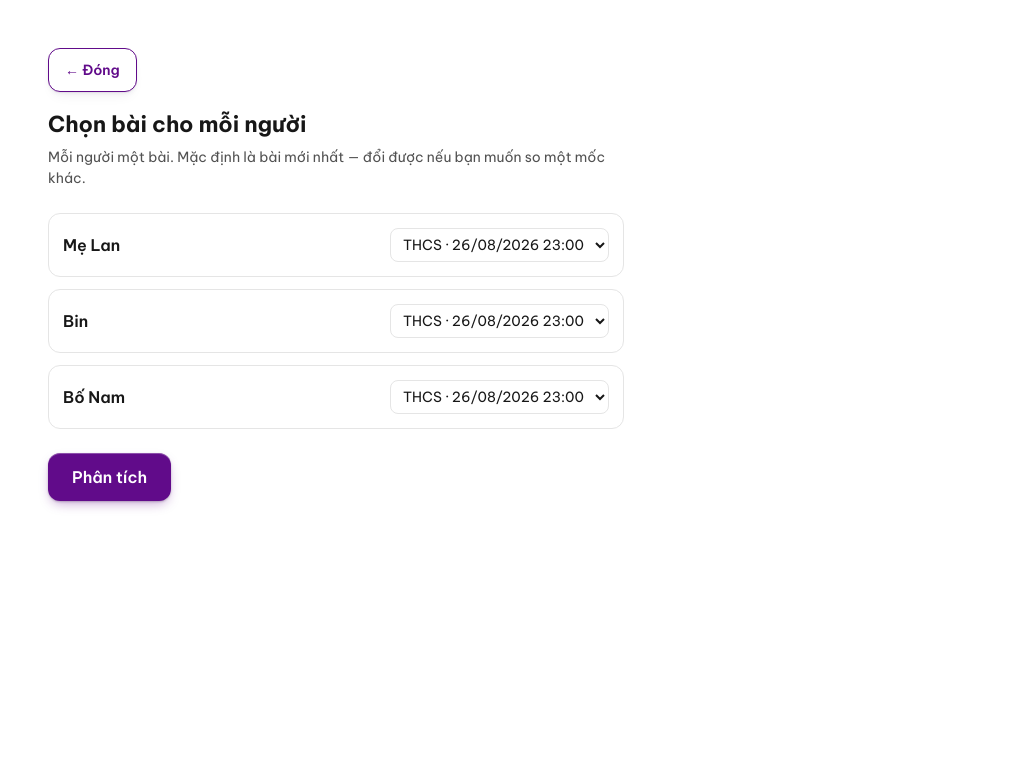
Scenario: 🔴🔴 IN TÁCH BẢN — mỗi người MỘT TỜ › có đúng một nút in cho mỗi người
This screenshot has width=1024, height=768.
Click the button "Phân tích" at (110, 477), box [48,453,171,501]
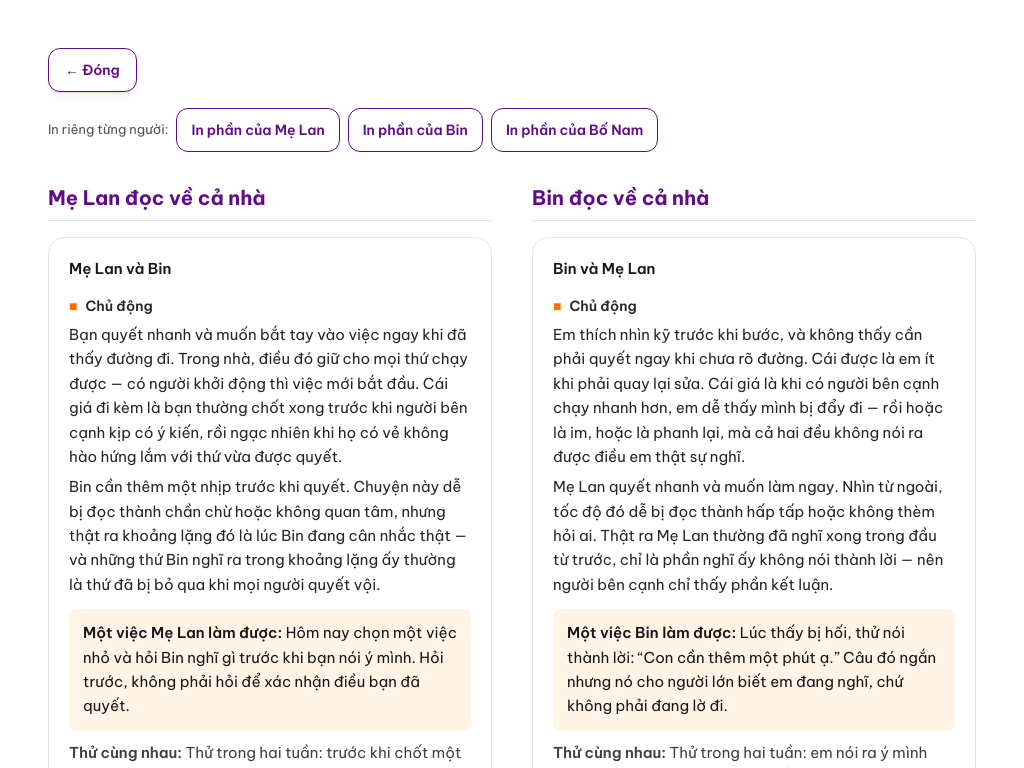
Check: the button "In phần của Bin" is shown, box [348,108,483,152]
